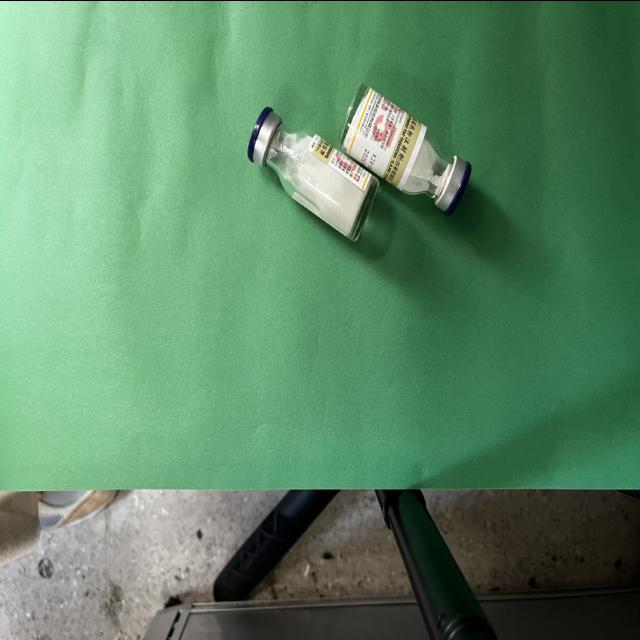Vials: (248, 107, 380, 240), (340, 84, 471, 214)
